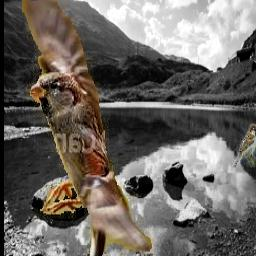Sparrow: (22, 0, 156, 256), (232, 124, 256, 167)
